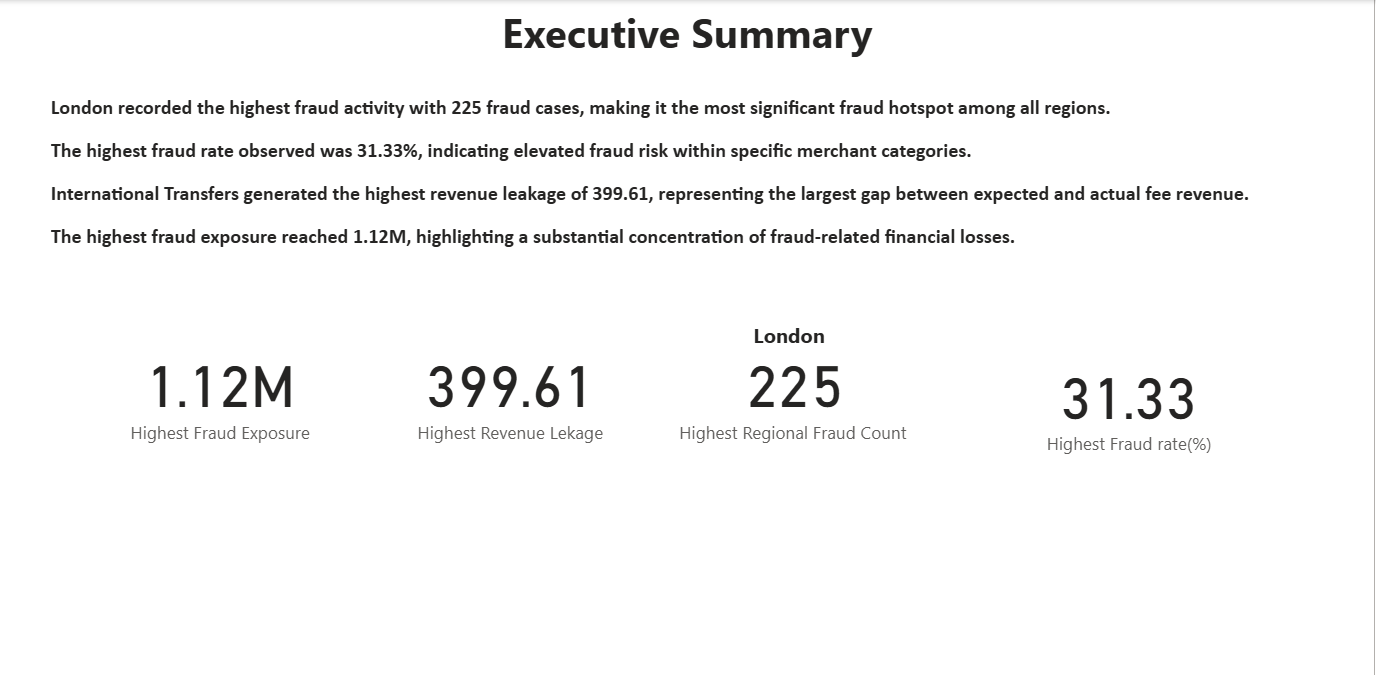

The page's visual inventory and layout, read from the dashboard file:
{"tool":"powerbi","page":{"name":"Page 5","canvas":[1280,720],"ordinal":4},"visuals":[{"type":"card","fields":{"Values":["Max(Q4.fraud_count)"]},"box":[624.4,294.2,234.9,139.5],"z":0},{"type":"textbox","box":[697.7,294.2,111.6,40.7],"z":1},{"type":"card","fields":{"Values":["Max(Q6.fraud_rate)"]},"box":[912.8,309.3,279.1,130.2],"z":2},{"type":"card","fields":{"Values":["Max(Q5.leakage)"]},"box":[337.2,309.3,279.1,109.3],"z":3},{"type":"card","fields":{"Values":["Max(Q9.fraud_exposure)"]},"box":[67.4,297.7,279.1,132.6],"z":4},{"type":"textbox","box":[464,0,467.4,72.1],"z":5},{"type":"textbox","box":[44.2,83.7,1189.5,165.1],"z":6}]}

Visuals, with their boxes on the page's 1280x720 design canvas (x1, y1, x2, y2). These are canvas units, not pixel positions in the 1376x675 screenshot, which may show the page scaled, cropped or inside an application window:
card - Max(Q4.fraud_count): bbox=(624, 294, 859, 434)
textbox: bbox=(698, 294, 809, 335)
card - Max(Q6.fraud_rate): bbox=(913, 309, 1192, 440)
card - Max(Q5.leakage): bbox=(337, 309, 616, 419)
card - Max(Q9.fraud_exposure): bbox=(67, 298, 346, 430)
textbox: bbox=(464, 0, 931, 72)
textbox: bbox=(44, 84, 1234, 249)
